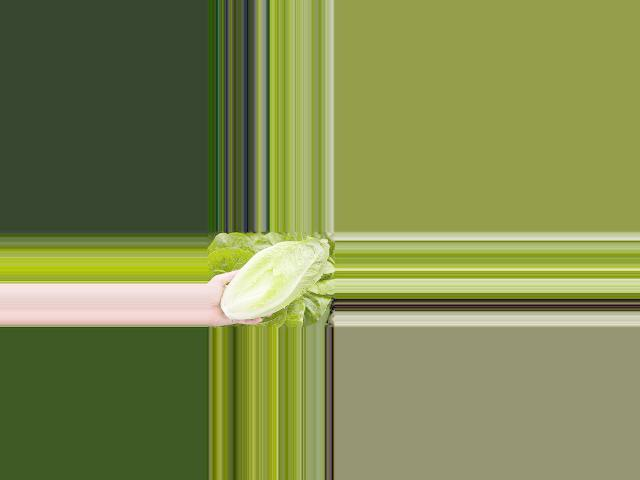lettuce: (219, 237, 329, 322)
